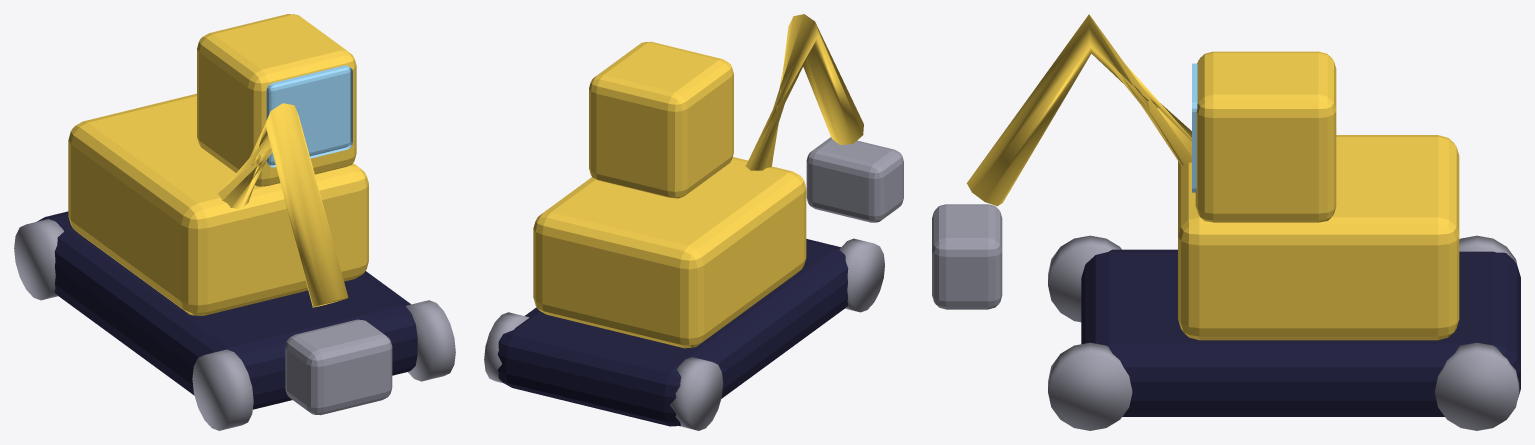
Rendered from Car_Digger.fbx.
3 views of the same model, side by side, from view 1: azimuth 30°, elevation 25°; view 2: azimuth 150°, elevation 25°; view 3: azimuth 270°, elevation 25° (orthographic). The views are drawn at different scales.
Visible parts, largest first — view 1: Car_Digger; view 2: Car_Digger; view 3: Car_Digger.
Part boxes in pixels (bbox=[...]): Car_Digger: bbox=[14, 14, 455, 430]; Car_Digger: bbox=[484, 14, 903, 430]; Car_Digger: bbox=[932, 14, 1520, 430].
Size of the model in its own units: 0.8 by 1.05 by 1.68.
